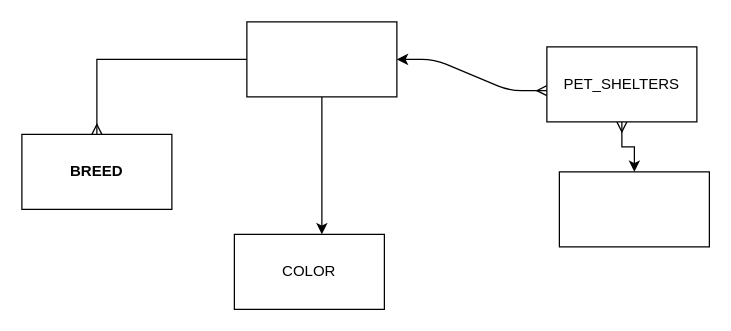
Image size: 731x331. Some labels were removed from this diagram. Here are the shapes that lost their labels. From the top down, the box of each, then its label:
(246, 21, 397, 97): PET
(558, 171, 709, 247): SHELTER
